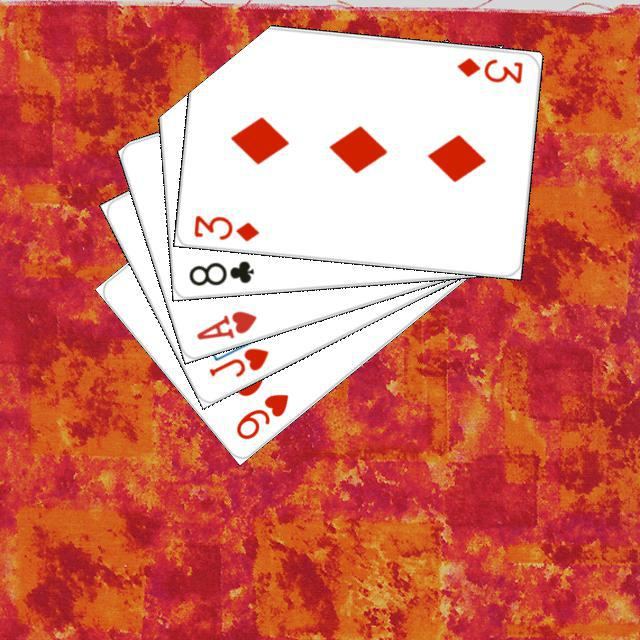3d: (189, 209, 261, 243), (452, 53, 524, 85)
8c: (184, 255, 256, 288)
9h: (231, 388, 291, 442)
Ah: (191, 305, 259, 342)
Jh: (204, 342, 271, 379)
